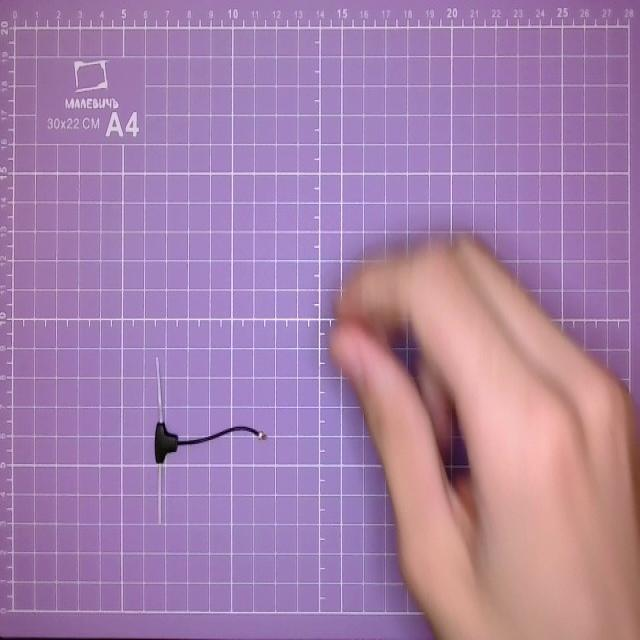antenna: (148, 354, 267, 522)
